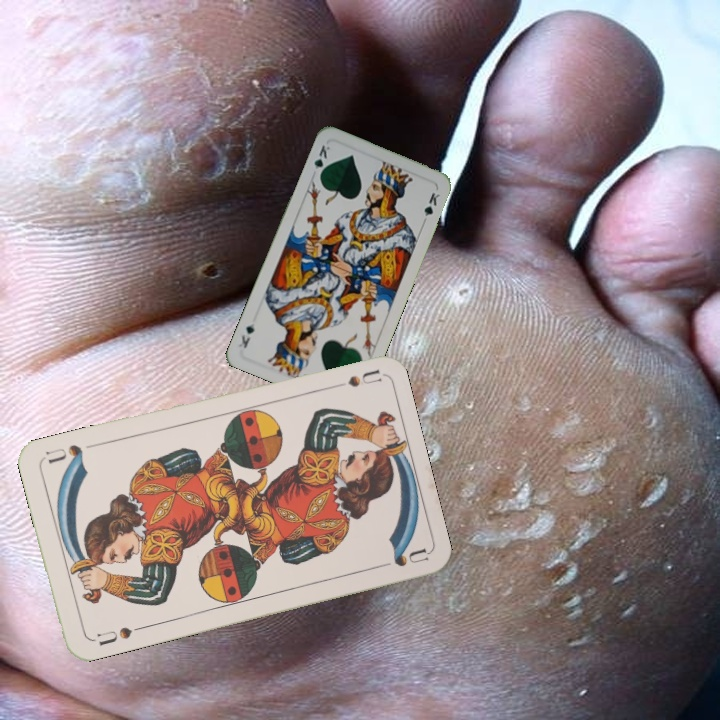GK: (310, 141, 333, 180)
SU: (93, 622, 146, 648), (344, 365, 382, 390)
